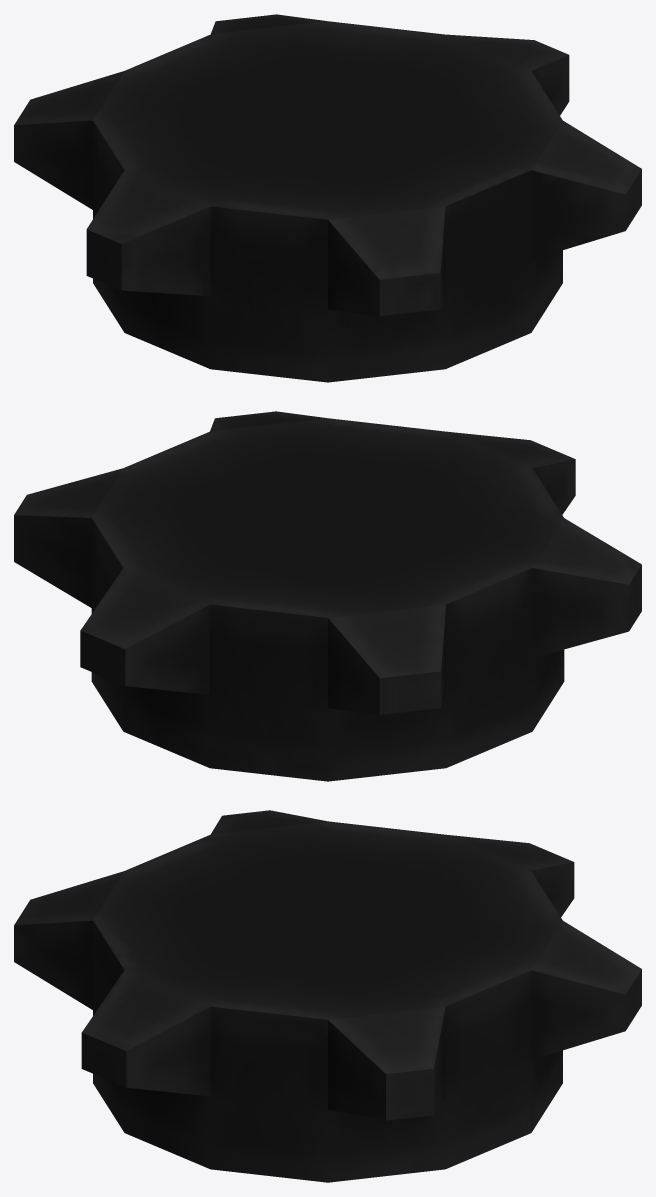
Rendered from gas_bottle_cap.obj.
3 renders of one model, top to bottom at view 1: azimuth 30°, elevation 25°; view 2: azimuth 150°, elevation 25°; view 3: azimuth 270°, elevation 25°, orthographic.
Visible parts, largest first — view 1: Cylinder002; view 2: Cylinder002; view 3: Cylinder002.
Boxes of the visible parts, x1,y1,x2,y2 form: Cylinder002: [14, 14, 641, 382]; Cylinder002: [14, 411, 641, 781]; Cylinder002: [14, 810, 641, 1182].
Size of the model in its own units: 5.86 by 1.68 by 5.89.
1 material, 1 textured.
